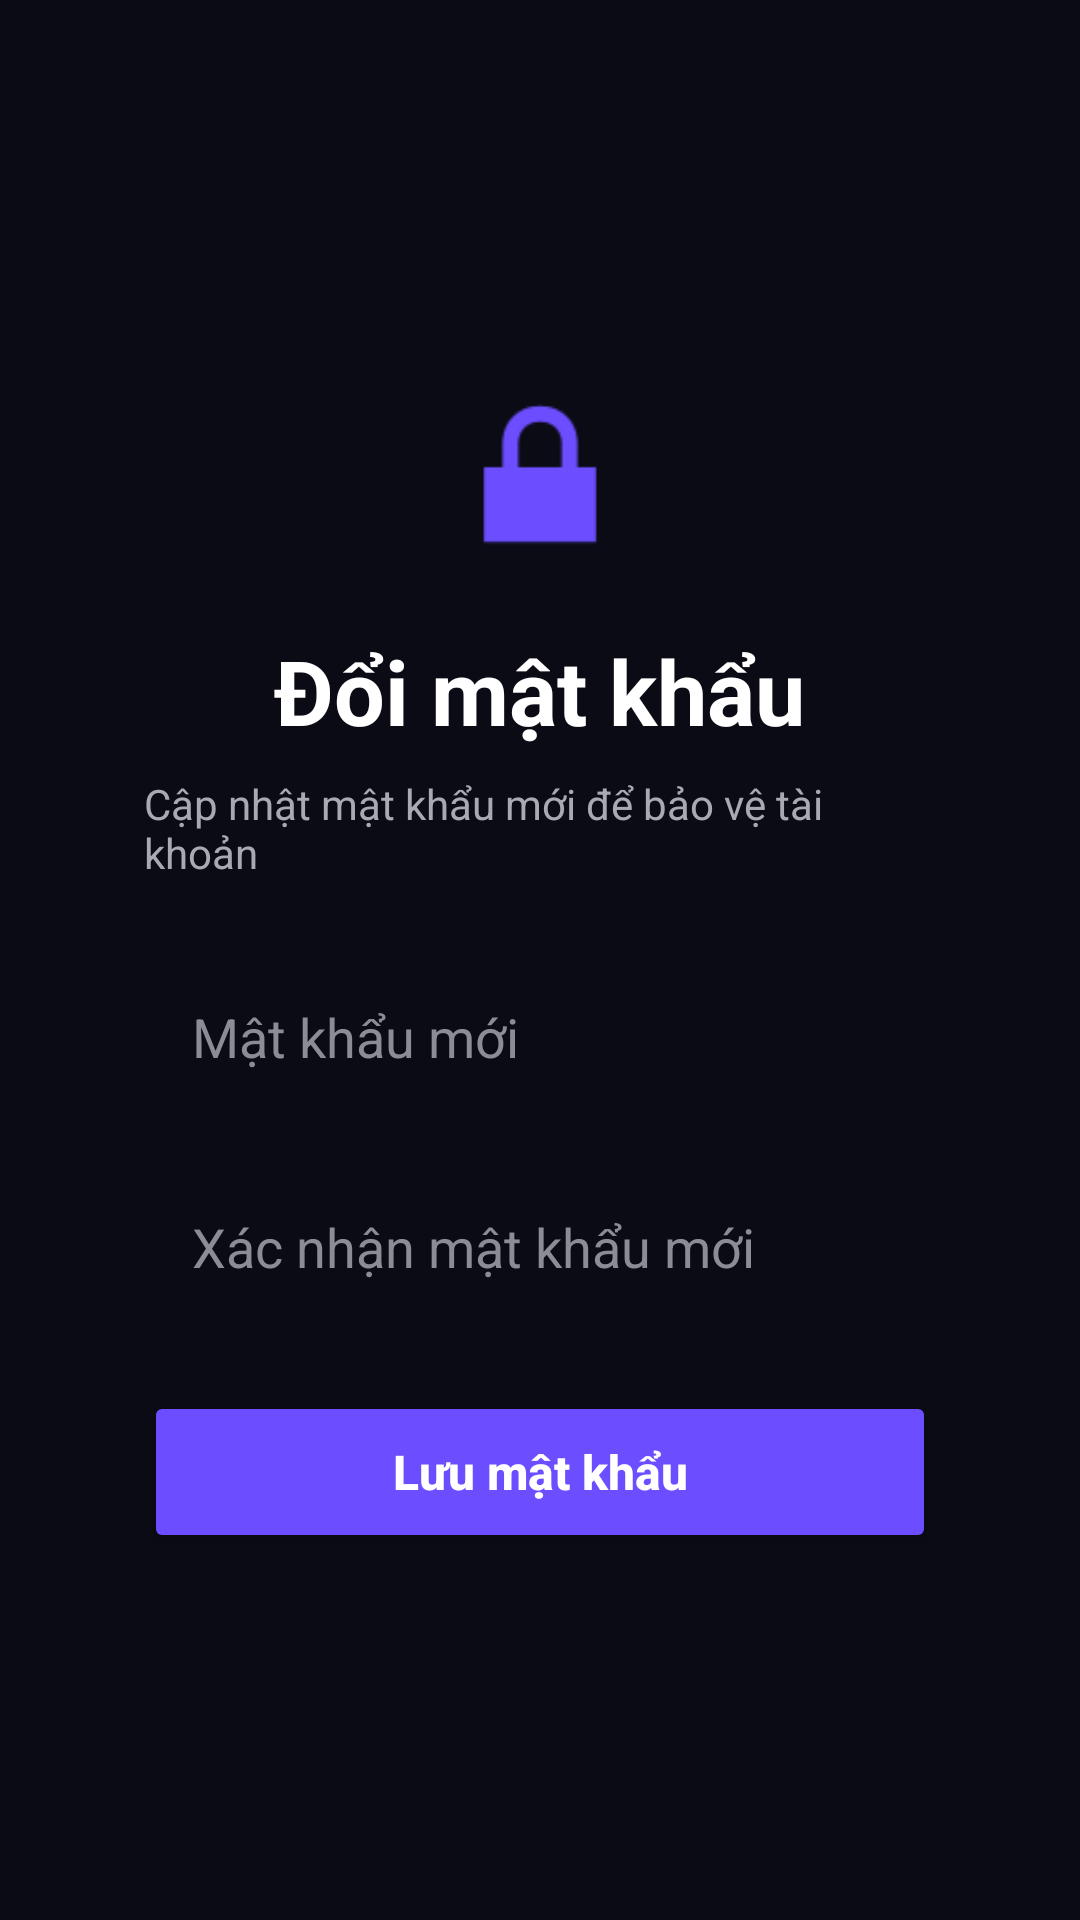

Named icons in this screenshot (1080w x 1920h) and their bounding boxes, box(x1, y1, x2, y2):
lock: box(483, 404, 597, 544)
